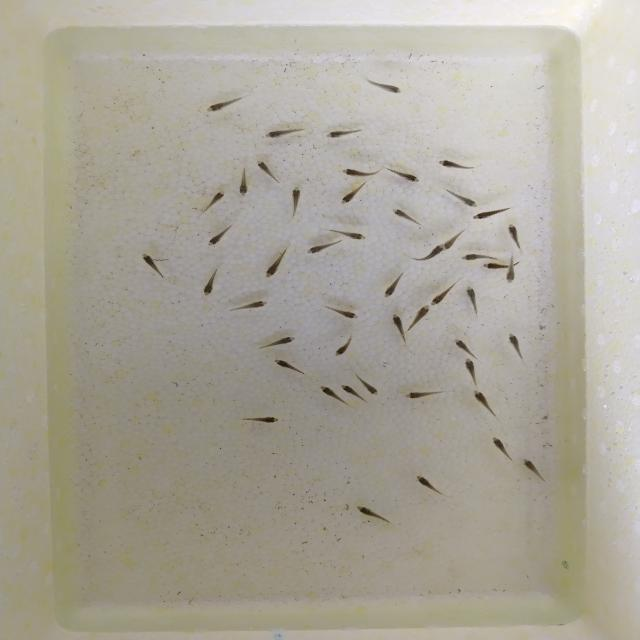fingerling: (199, 94, 245, 115), (334, 184, 368, 208), (263, 248, 287, 281), (440, 190, 484, 208), (353, 502, 388, 524), (198, 268, 220, 302), (468, 388, 495, 414), (409, 300, 437, 325), (521, 456, 548, 481), (361, 82, 408, 96), (261, 126, 302, 142), (232, 171, 255, 199), (465, 206, 505, 222), (329, 229, 374, 243), (206, 226, 230, 252), (410, 244, 444, 262), (333, 165, 380, 178), (461, 283, 481, 313), (452, 336, 482, 356), (314, 384, 346, 402), (240, 413, 288, 425), (430, 284, 456, 306), (404, 388, 443, 402), (206, 188, 228, 212), (360, 378, 384, 400), (390, 170, 430, 183), (140, 252, 160, 278), (303, 242, 335, 258), (380, 278, 402, 301), (391, 206, 417, 225), (463, 355, 481, 382), (390, 311, 407, 339), (254, 161, 280, 179), (505, 223, 527, 244), (318, 128, 364, 138), (432, 160, 476, 170), (272, 359, 303, 373), (327, 308, 363, 320), (492, 434, 511, 456), (338, 382, 364, 398), (266, 336, 302, 347), (442, 233, 465, 250), (240, 299, 272, 311), (332, 339, 352, 358), (291, 185, 303, 215), (509, 330, 521, 358), (505, 264, 520, 286), (458, 253, 494, 262), (414, 474, 434, 489), (483, 262, 506, 272)
